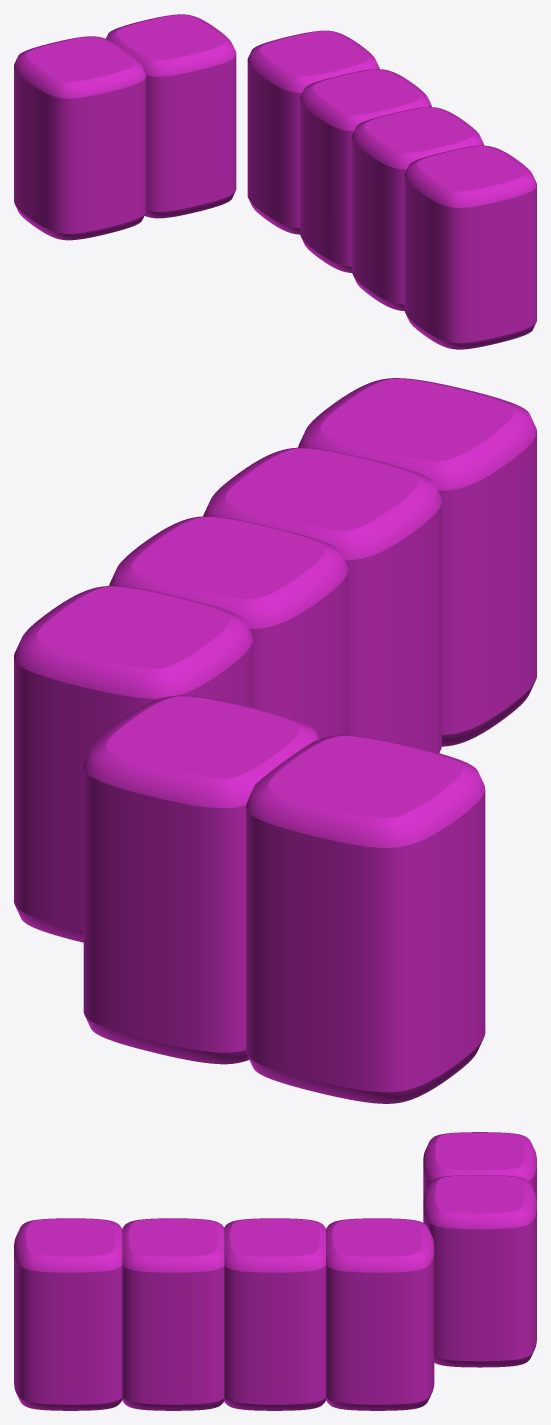
The model's file is Letter_l_Small.fbx.
3 views of the same model, one above another, from view 1: azimuth 30°, elevation 25°; view 2: azimuth 150°, elevation 25°; view 3: azimuth 270°, elevation 25° (orthographic). The views are drawn at different scales.
Visible parts, largest first — view 1: Letter_l; view 2: Letter_l; view 3: Letter_l.
Boxes of the visible parts, bbox=[...] form: Letter_l: bbox=[14, 14, 536, 349]; Letter_l: bbox=[14, 378, 536, 1103]; Letter_l: bbox=[14, 1132, 536, 1410].
Size of the model in its own units: 0.2619 by 0.14 by 0.4311.
